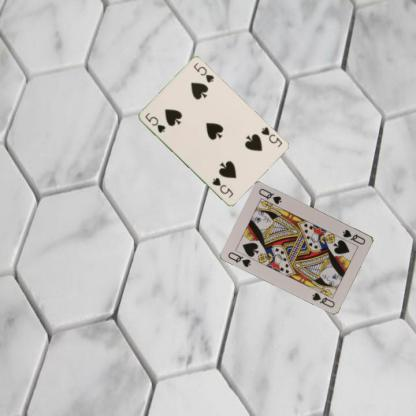5s: (258, 124, 283, 149), (142, 110, 167, 134)
Qs: (340, 227, 367, 246), (225, 249, 252, 268)
